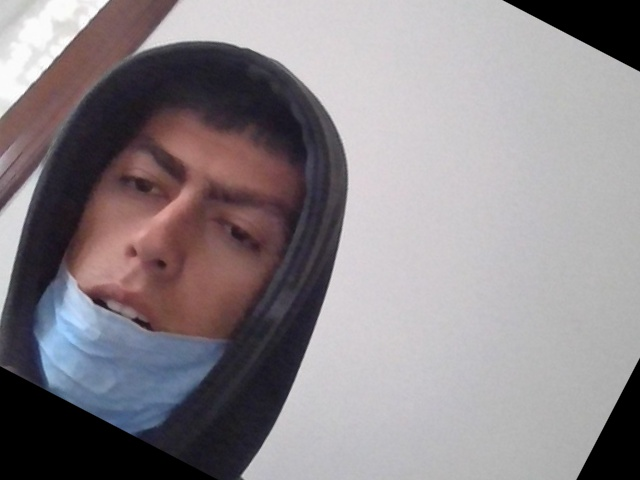mask_weared_incorrect: (15, 86, 313, 462)
